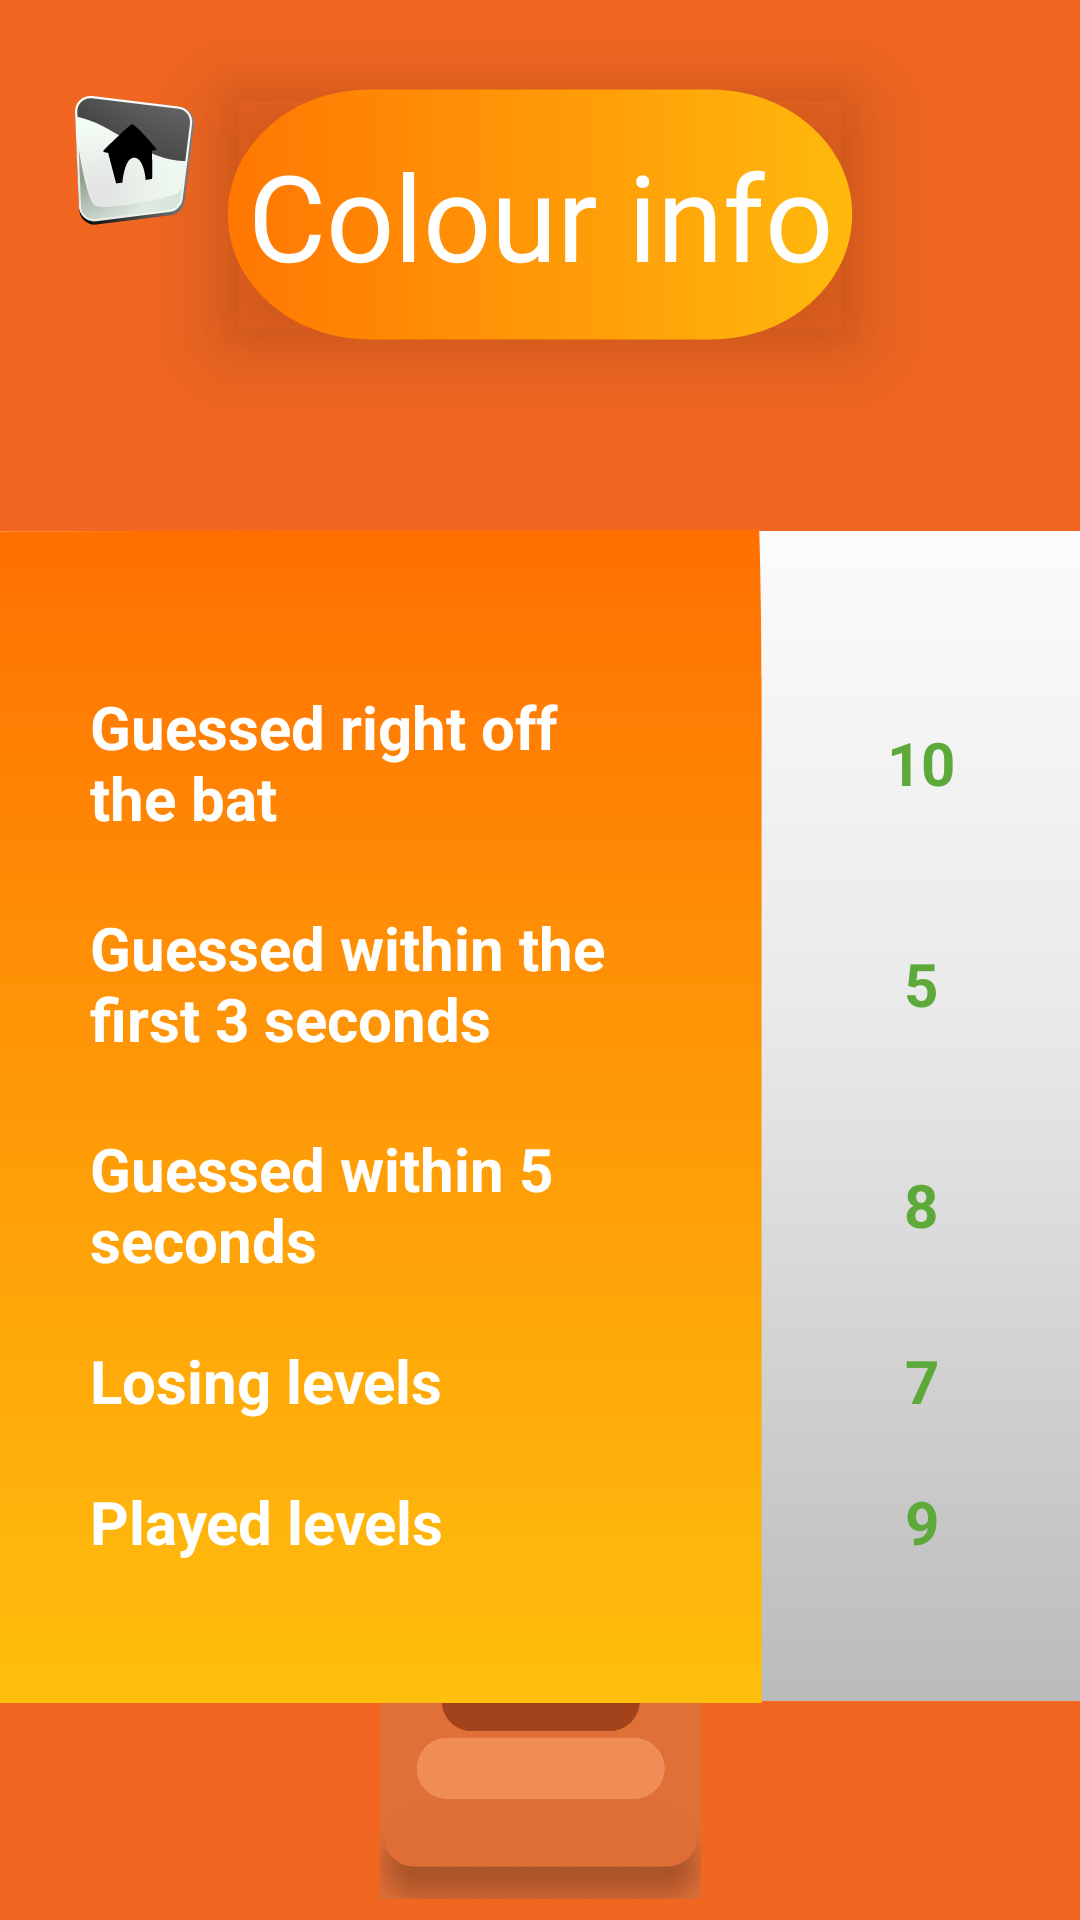

Named icons in this screenshot (1080px x 1920px) and their centers, point (x, y):
home: point (135, 160)
